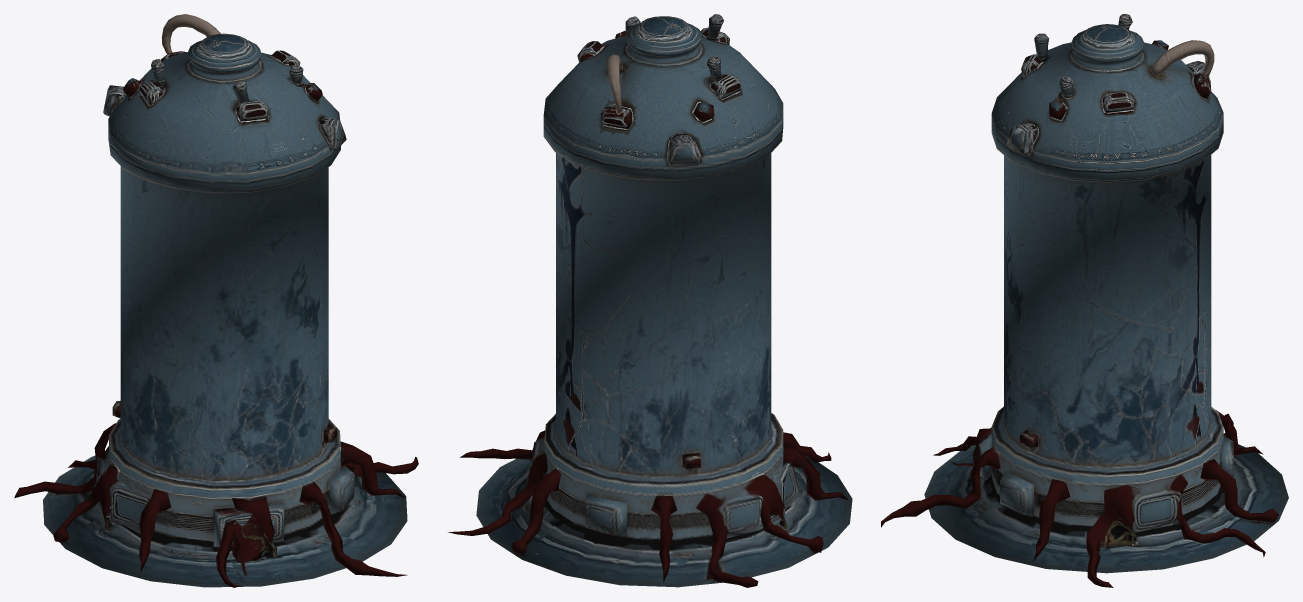
The model's file is tripo_convert_adaaa42a-77ed-497b-b43e-0c104e077331.fbx.
3 renders of one model, left to right at view 1: azimuth 30°, elevation 25°; view 2: azimuth 150°, elevation 25°; view 3: azimuth 270°, elevation 25°, orthographic. The views are drawn at different scales.
Visible parts, largest first — view 1: tripo_node_adaaa42a; view 2: tripo_node_adaaa42a; view 3: tripo_node_adaaa42a.
Boxes of the visible parts, left/top/right/bottom form: tripo_node_adaaa42a: left=14, top=14, right=418, bottom=587; tripo_node_adaaa42a: left=448, top=14, right=852, bottom=587; tripo_node_adaaa42a: left=881, top=14, right=1288, bottom=587.
Size of the model in its own units: 0.7949 by 0.998 by 0.791.
Materials: 1 (1 with a texture image).
